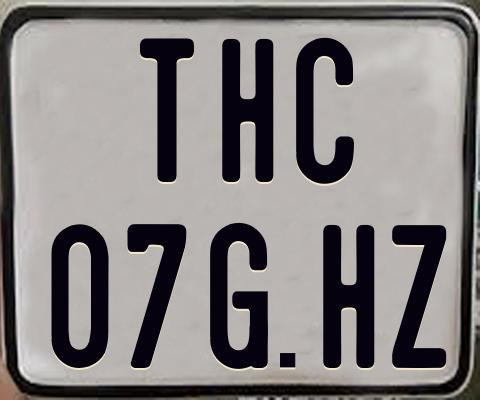0: (51, 223, 113, 373)
7: (124, 223, 186, 367)
C: (295, 37, 354, 184)
G: (210, 222, 271, 374)
H: (322, 224, 379, 369), (220, 37, 276, 180)
T: (138, 37, 194, 185)
Z: (391, 222, 445, 367)
